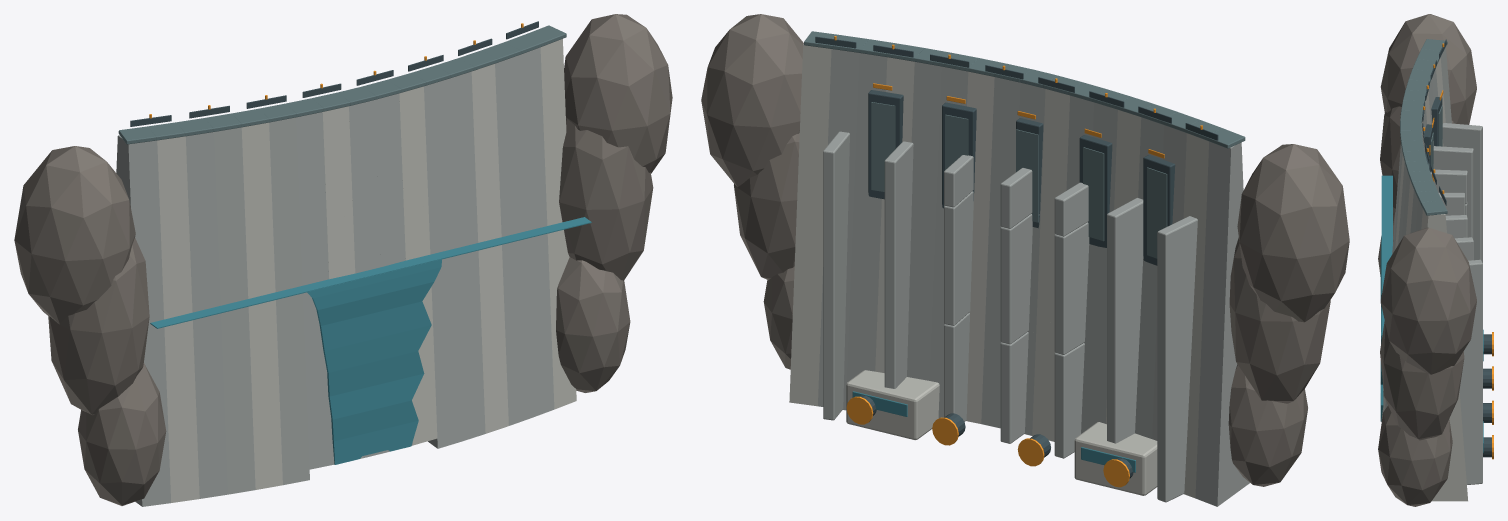
The model's file is 01_dam.glb.
3 views of the same model, side by side, from view 1: azimuth 30°, elevation 25°; view 2: azimuth 150°, elevation 25°; view 3: azimuth 270°, elevation 25° (orthographic). The views are drawn at different scales.
Visible parts, largest first — view 1: dam_reservoir_body_nocol, dam_granite_-1_2, dam_granite_+1_2, dam_granite_+1_1, dam_wall_arch_01, dam_wall_arch_02, dam_wall_arch_03, dam_granite_-1_1, dam_wall_arch_04, dam_wall_arch_05, dam_wall_arch_11, dam_wall_arch_12 (+20 smaller); view 2: dam_granite_-1_2, dam_granite_+1_2, dam_wall_arch_00, dam_wall_arch_16, dam_wall_buttress_-360, dam_granite_-1_1, dam_wall_arch_12, dam_wall_buttress_-240, dam_wall_arch_14, dam_wall_buttress_+360, dam_granite_-1_0, dam_wall_buttress_+240 (+43 smaller); view 3: dam_granite_+1_2, dam_granite_-1_2, dam_granite_+1_1, dam_granite_+1_0, dam_wall_buttress_+360, dam_wall_arch_16, dam_wall_buttress_-360, dam_wall_buttress_-240, dam_granite_-1_1, dam_reservoir_surface_nocol, dam_wall_buttress_-120_tier_2_nocol, dam_wall_buttress_+0_tier_2_nocol (+37 smaller).
Part boxes in pixels (bbox=[...]): dam_reservoir_body_nocol: bbox=[307, 259, 441, 464]; dam_granite_-1_2: bbox=[14, 146, 135, 324]; dam_granite_+1_2: bbox=[564, 14, 672, 173]; dam_granite_+1_1: bbox=[559, 119, 653, 280]; dam_wall_arch_01: bbox=[157, 136, 199, 502]; dam_wall_arch_02: bbox=[185, 132, 227, 498]; dam_wall_arch_03: bbox=[214, 127, 255, 494]; dam_granite_-1_1: bbox=[48, 238, 149, 415]; dam_wall_arch_04: bbox=[241, 122, 282, 489]; dam_wall_arch_05: bbox=[269, 117, 309, 485]; dam_wall_arch_11: bbox=[424, 79, 461, 448]; dam_wall_arch_12: bbox=[448, 71, 485, 441]; dam_granite_-1_2: bbox=[1237, 144, 1349, 322]; dam_granite_+1_2: bbox=[701, 14, 803, 186]; dam_wall_arch_00: bbox=[1195, 141, 1249, 506]; dam_wall_arch_16: bbox=[789, 44, 831, 406]; dam_wall_buttress_-360: bbox=[1157, 216, 1197, 502]; dam_granite_-1_1: bbox=[1229, 237, 1330, 403]; dam_wall_arch_12: bbox=[907, 62, 941, 380]; dam_wall_buttress_-240: bbox=[1107, 198, 1143, 443]; dam_wall_arch_14: bbox=[846, 53, 887, 409]; dam_wall_buttress_+360: bbox=[823, 131, 849, 420]; dam_granite_-1_0: bbox=[1228, 364, 1307, 486]; dam_wall_buttress_+240: bbox=[884, 141, 913, 388]; dam_granite_+1_2: bbox=[1380, 227, 1476, 374]; dam_granite_-1_2: bbox=[1380, 14, 1476, 124]; dam_granite_+1_1: bbox=[1380, 321, 1464, 440]; dam_granite_+1_0: bbox=[1378, 405, 1452, 506]; dam_wall_buttress_+360: bbox=[1459, 259, 1482, 484]; dam_wall_arch_16: bbox=[1421, 209, 1467, 501]; dam_wall_buttress_-360: bbox=[1442, 123, 1482, 263]; dam_wall_buttress_-240: bbox=[1433, 146, 1473, 240]; dam_granite_-1_1: bbox=[1380, 106, 1454, 213]; dam_reservoir_surface_nocol: bbox=[1381, 175, 1392, 338]; dam_wall_buttress_-120_tier_2_nocol: bbox=[1430, 169, 1467, 204]; dam_wall_buttress_+0_tier_2_nocol: bbox=[1438, 192, 1464, 215].
Bounding box in the file's own units: 1328 × 728 × 257.
